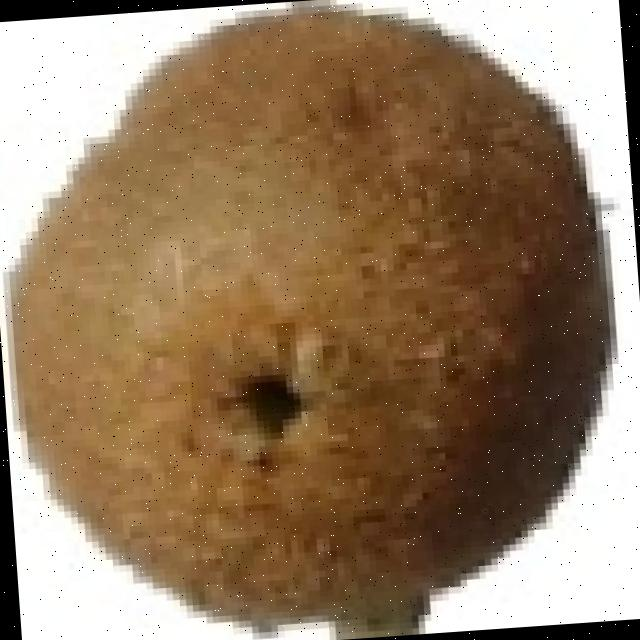kiwi: (10, 11, 619, 635)
